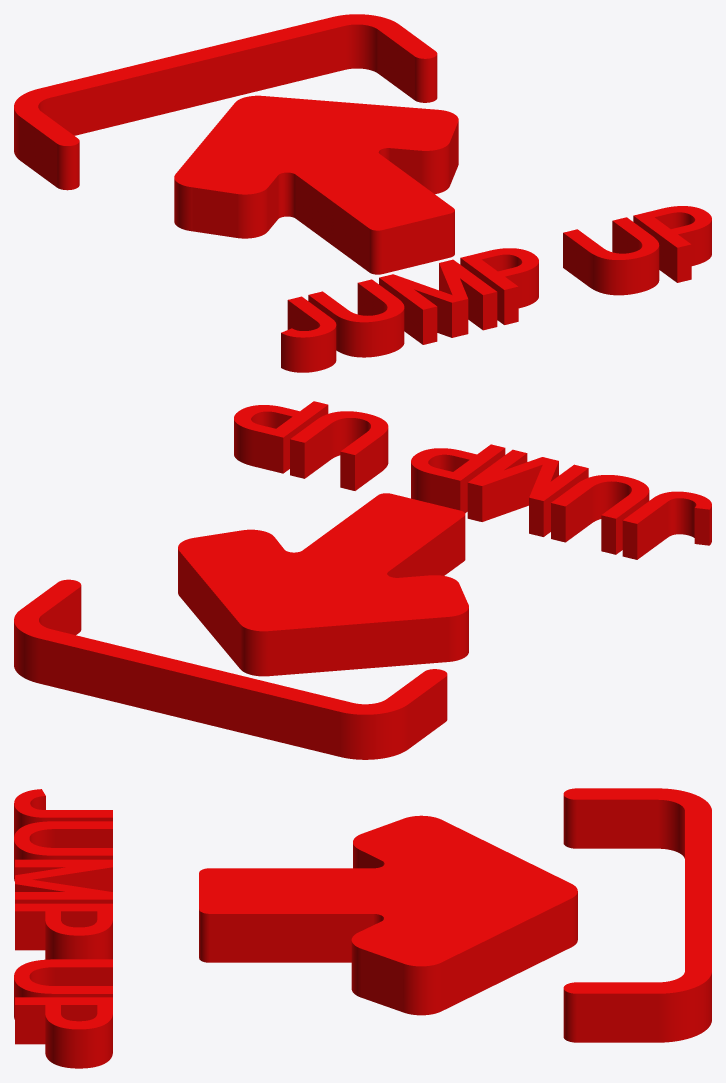
Rendered from JumpUp.fbx.
3 views of the same model, one above another, from view 1: azimuth 30°, elevation 25°; view 2: azimuth 150°, elevation 25°; view 3: azimuth 270°, elevation 25° (orthographic). The views are drawn at different scales.
Visible parts, largest first — view 1: PowerUps; view 2: PowerUps; view 3: PowerUps.
Boxes of the visible parts, <box> form: PowerUps: <box>14,14,711,372</box>; PowerUps: <box>14,401,711,759</box>; PowerUps: <box>14,788,711,1068</box>.
Size of the model in its own units: 1.05 by 0.1 by 1.29.
